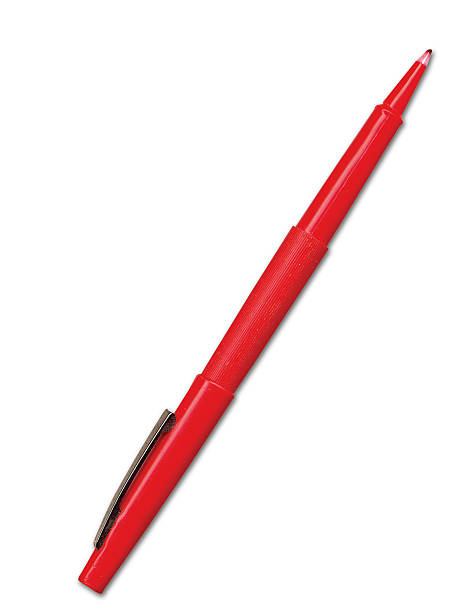pen: (71, 30, 451, 605)
